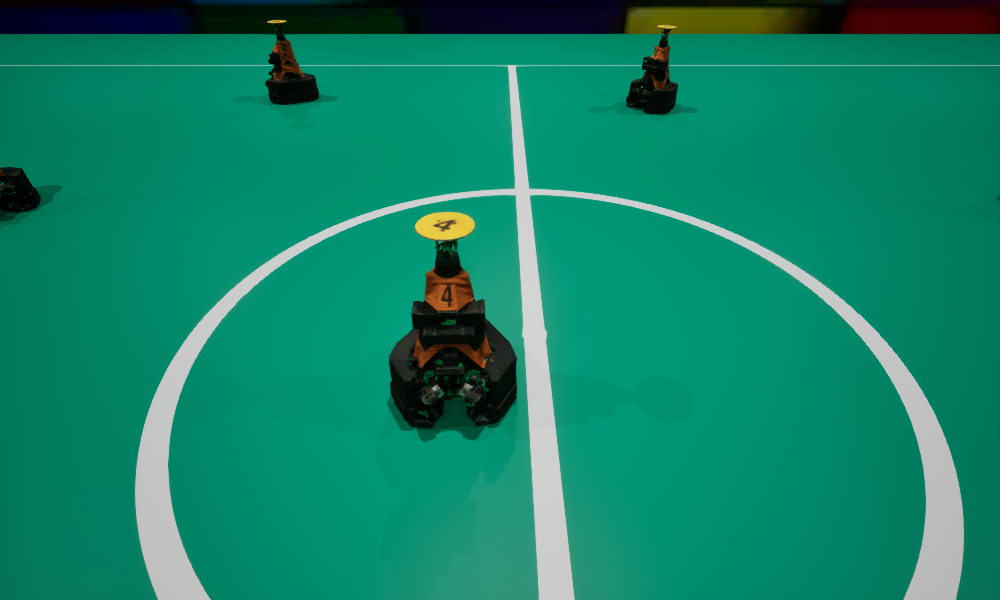o: (389, 212, 516, 428), (626, 25, 677, 113), (265, 20, 318, 103), (0, 167, 40, 212)
